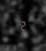two: (19, 20, 25, 30)
